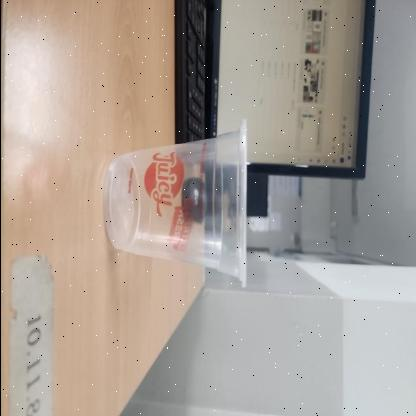Others: (105, 120, 247, 290)
